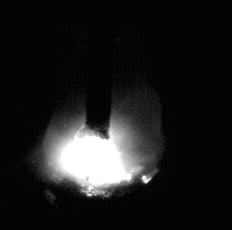arame: (87, 0, 111, 139)
poca: (41, 0, 166, 230)
